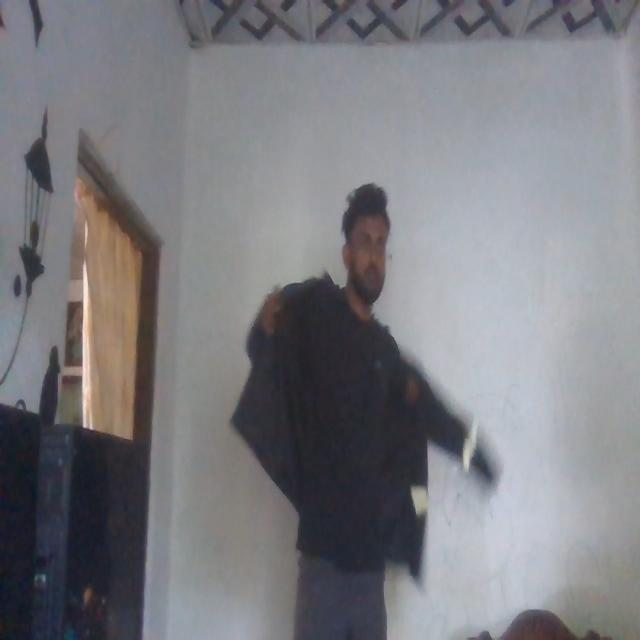Jacket_Wearer: (241, 259, 455, 566)
Person: (251, 162, 451, 640)
